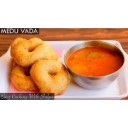vada: (28, 59, 71, 93), (11, 35, 58, 66), (9, 62, 34, 93)
